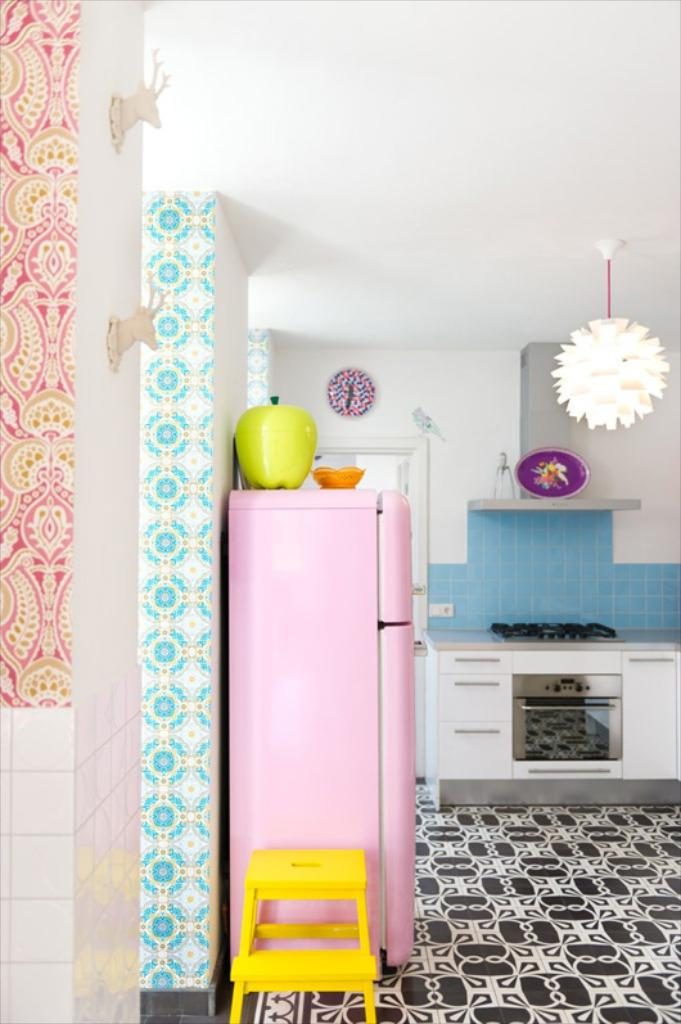cabinet door: (626, 658, 681, 781), (441, 727, 510, 791), (441, 676, 509, 734), (440, 647, 511, 671)
handle: (451, 724, 502, 754), (451, 674, 498, 704), (453, 649, 502, 674), (630, 656, 674, 678)
refrigerator door: (386, 622, 425, 951), (375, 488, 413, 629)
